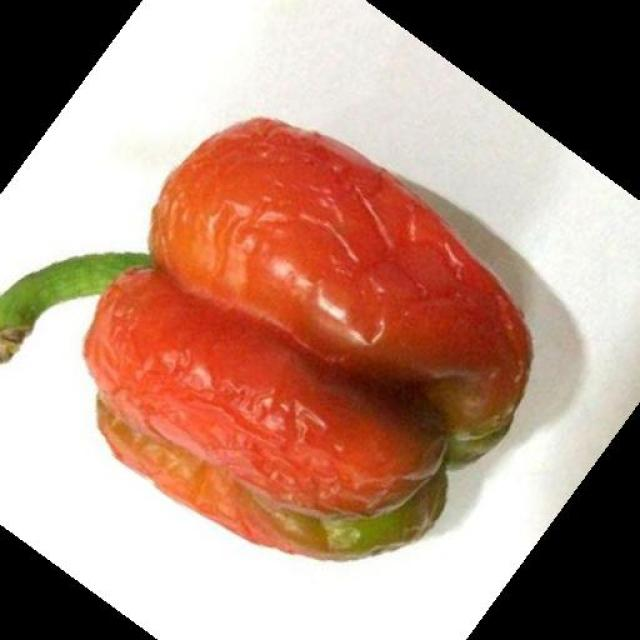Stale_Capsicum: (0, 114, 560, 583)
